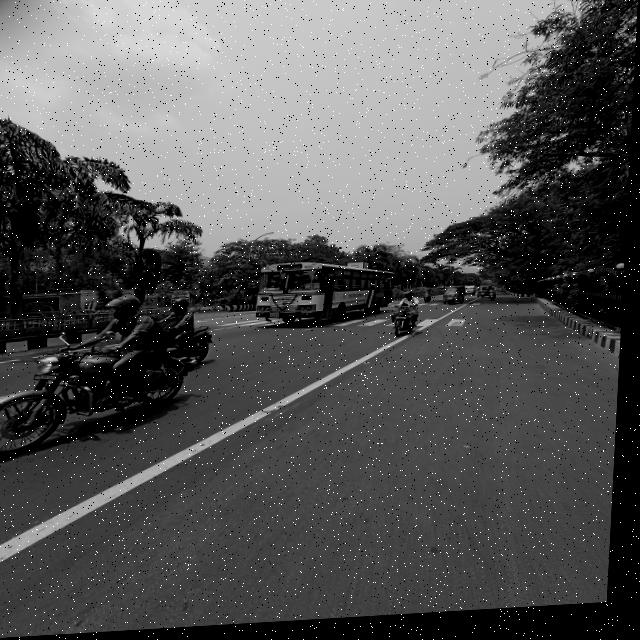bike: (0, 333, 229, 461), (252, 256, 409, 333), (392, 312, 427, 344)
